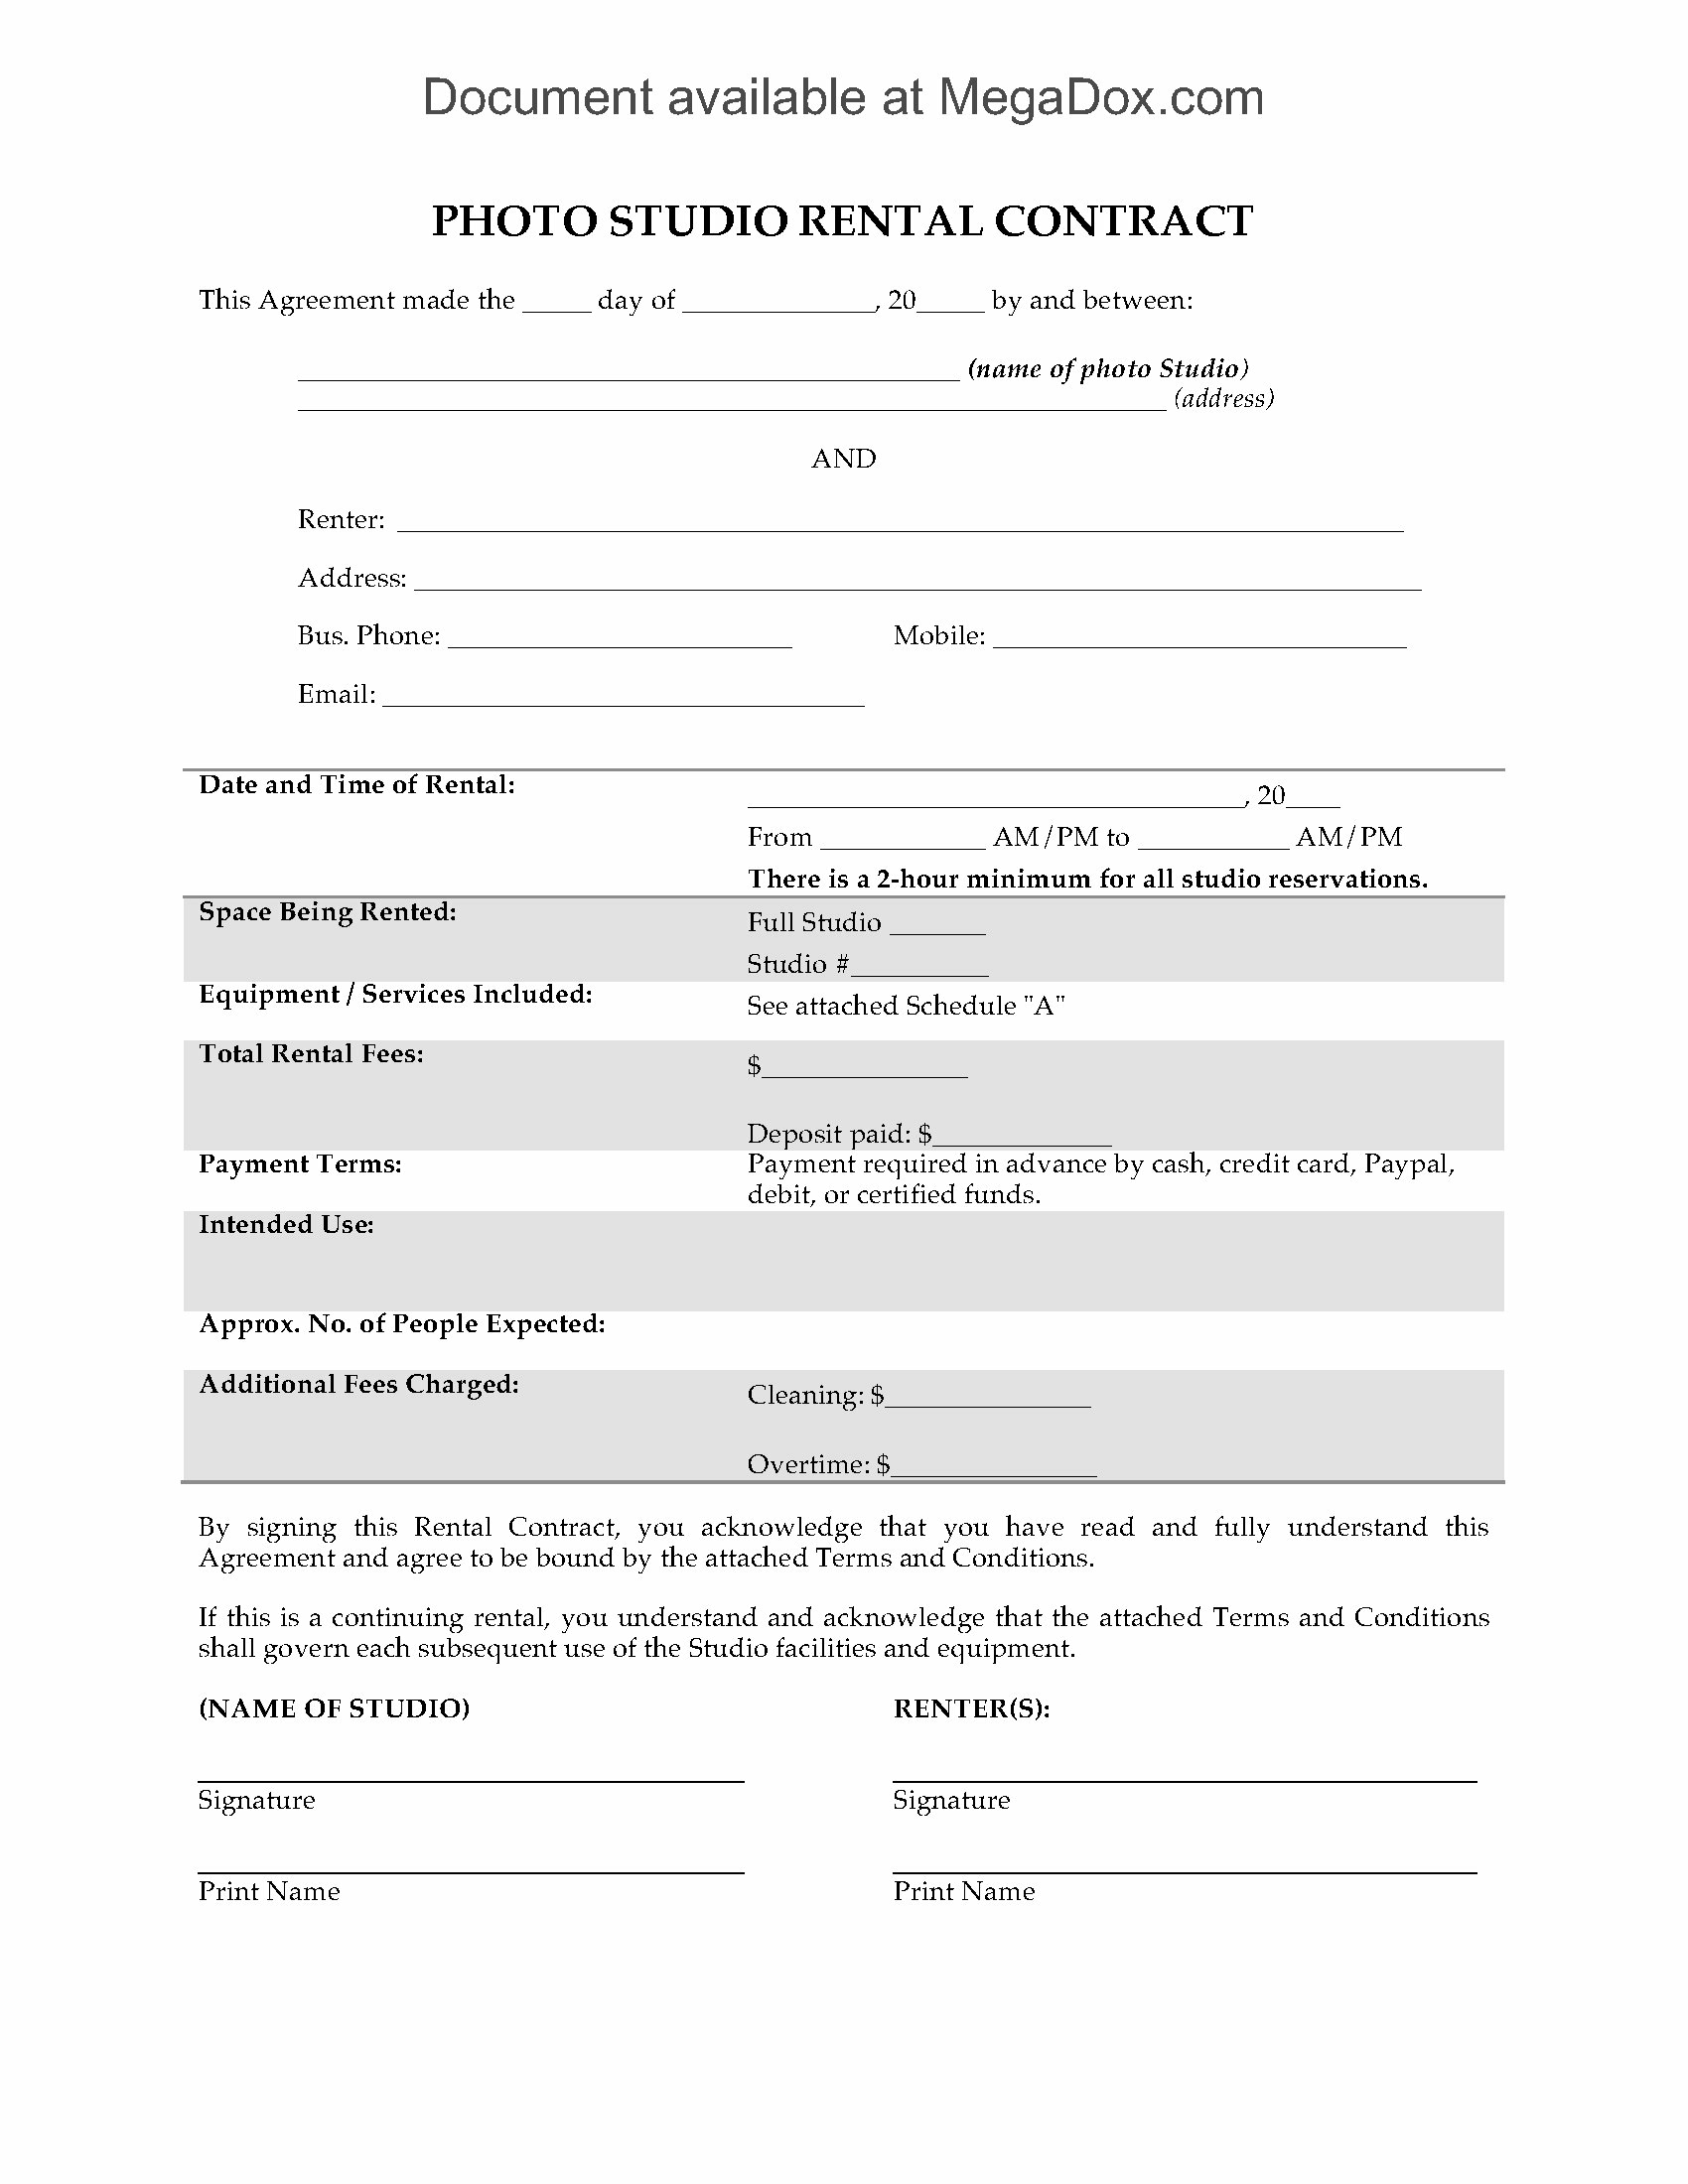textline: (413, 553, 1426, 599), (394, 498, 1410, 542), (188, 1819, 752, 1883), (890, 1822, 1482, 1881), (888, 1734, 1500, 1787), (188, 1739, 750, 1792), (294, 340, 963, 385), (293, 385, 1168, 417), (376, 677, 872, 721), (996, 613, 1411, 659), (746, 782, 1239, 817), (450, 615, 800, 658), (888, 1376, 1098, 1418), (761, 1048, 973, 1085), (888, 1447, 1103, 1482), (683, 278, 869, 319), (931, 1117, 1119, 1154), (817, 819, 984, 856), (855, 948, 996, 986), (1138, 828, 1289, 860), (885, 906, 991, 941), (518, 277, 594, 321), (920, 277, 988, 319), (1286, 784, 1351, 814)
